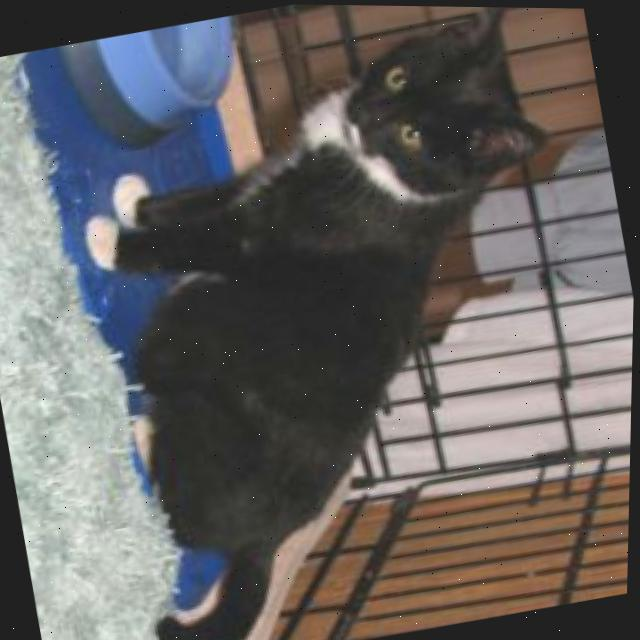Tuxedo: (42, 1, 640, 640)
